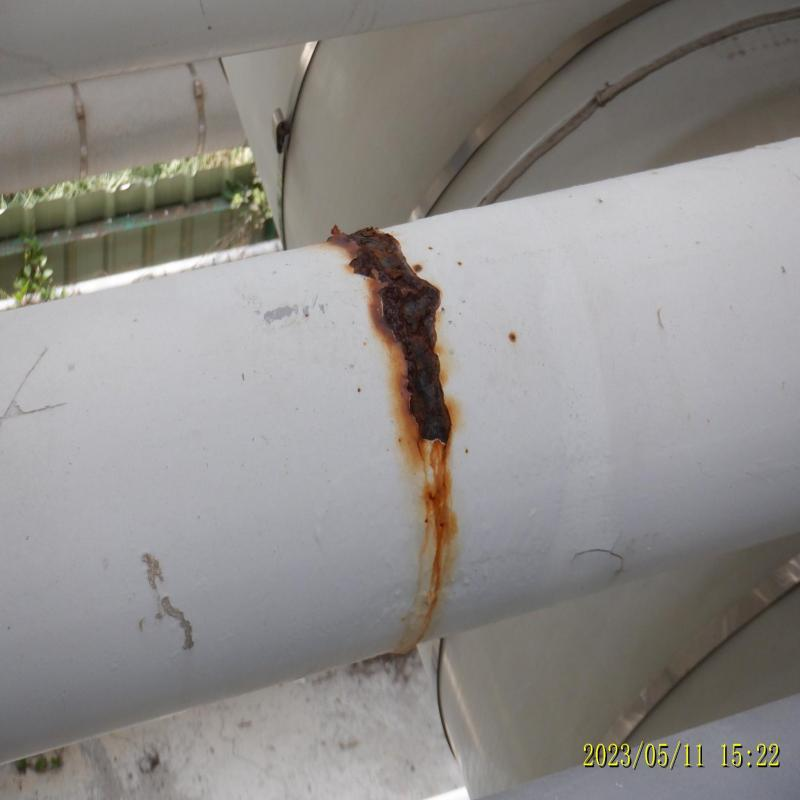corrosion: (465, 190, 746, 495)
